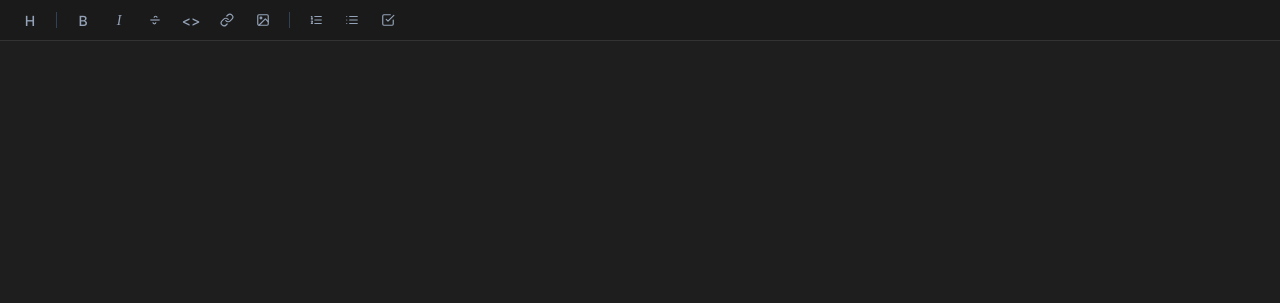
Test: FormatBar.svelte and Subcomponents › HeadingSelector › sets heading levels
The width and height of the screenshot is (1280, 303).
Click the button titled "Headers" at {"x": 30, "y": 20}, box left=16, top=6, right=44, bottom=34
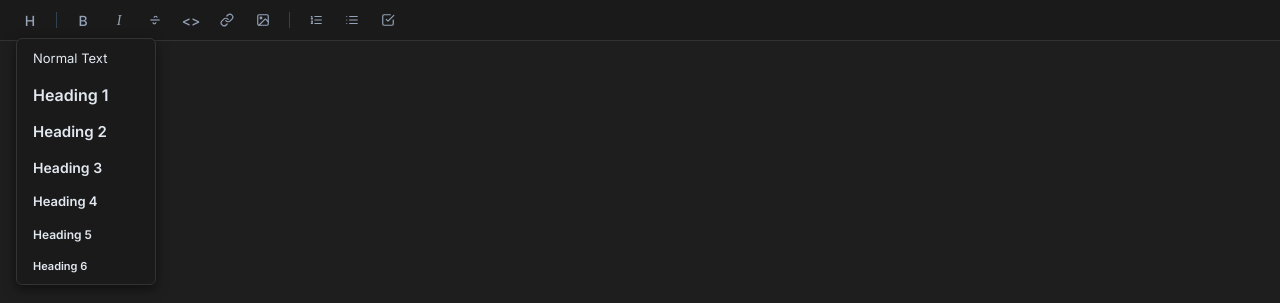
Click the button "Heading 2" at {"x": 86, "y": 132}, box left=21, top=114, right=151, bottom=149
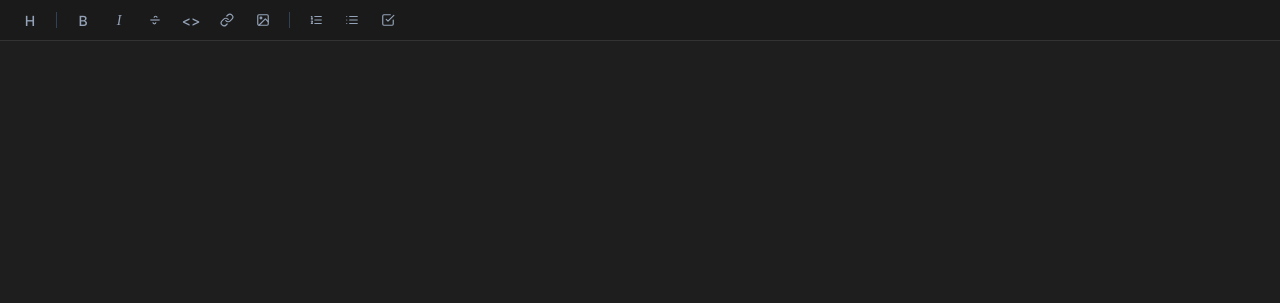
Expected: the element with class "heading-dropdown" is gone
